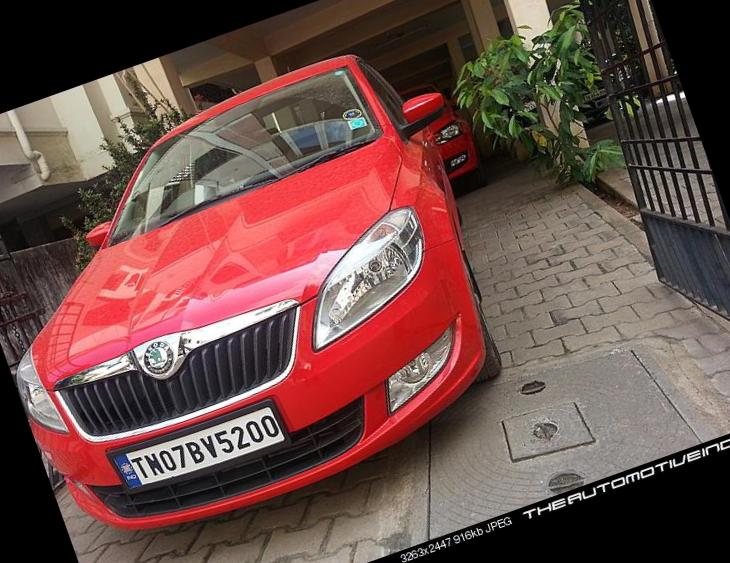plate: (87, 379, 313, 516)
